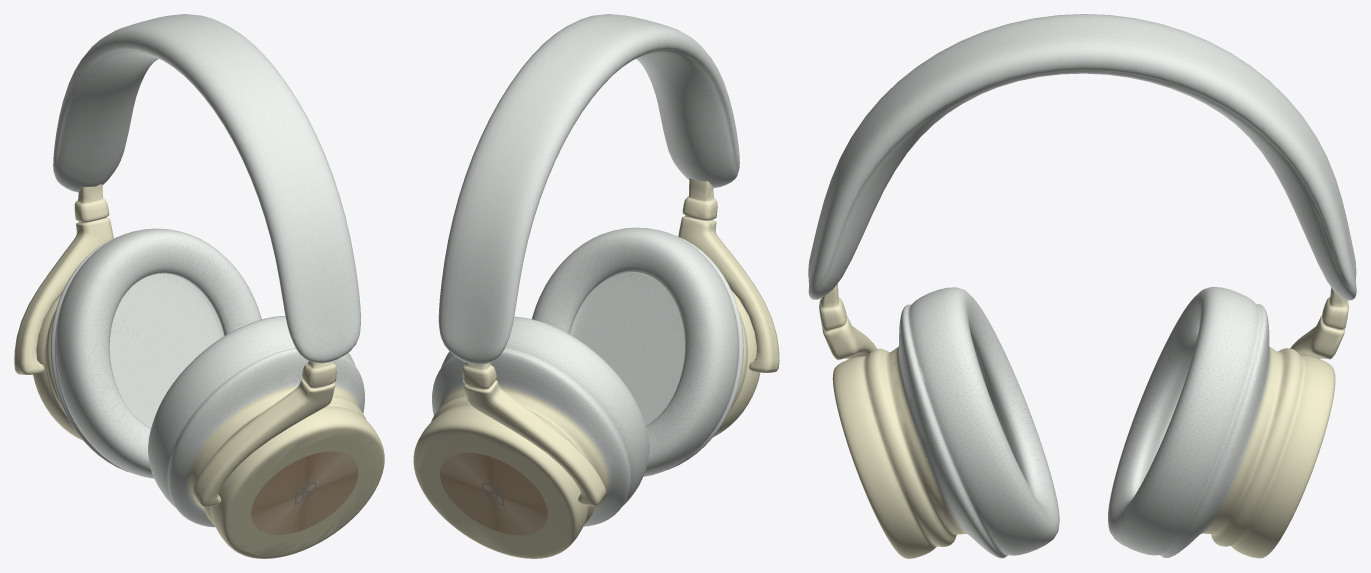
Rendered from headphone.glb.
3 renders of one model, left to right at view 1: azimuth 30°, elevation 25°; view 2: azimuth 150°, elevation 25°; view 3: azimuth 270°, elevation 25°, orthographic. The views are drawn at different scales.
Parts seen in each view (by area): view 1: Circle_White leather_0, Cylinder_Worn Yellow Brass Metal_0, Cylinder_Material.001_0; view 2: Circle_White leather_0, Cylinder_Worn Yellow Brass Metal_0, Cylinder_Material.001_0; view 3: Circle_White leather_0, Cylinder_Worn Yellow Brass Metal_0.
Boxes of the visible parts, box(x1,y1,x2,y2) form: Circle_White leather_0: box(50, 14, 364, 527); Cylinder_Worn Yellow Brass Metal_0: box(14, 184, 384, 558); Cylinder_Material.001_0: box(251, 451, 358, 534); Circle_White leather_0: box(432, 14, 743, 526); Cylinder_Worn Yellow Brass Metal_0: box(413, 178, 779, 558); Cylinder_Material.001_0: box(440, 452, 547, 535); Circle_White leather_0: box(808, 14, 1356, 558); Cylinder_Worn Yellow Brass Metal_0: box(819, 284, 1348, 558).
Size of the model in its own units: 0.0866 by 0.1925 by 0.1836.
Materials: 3 (2 with a texture image).
